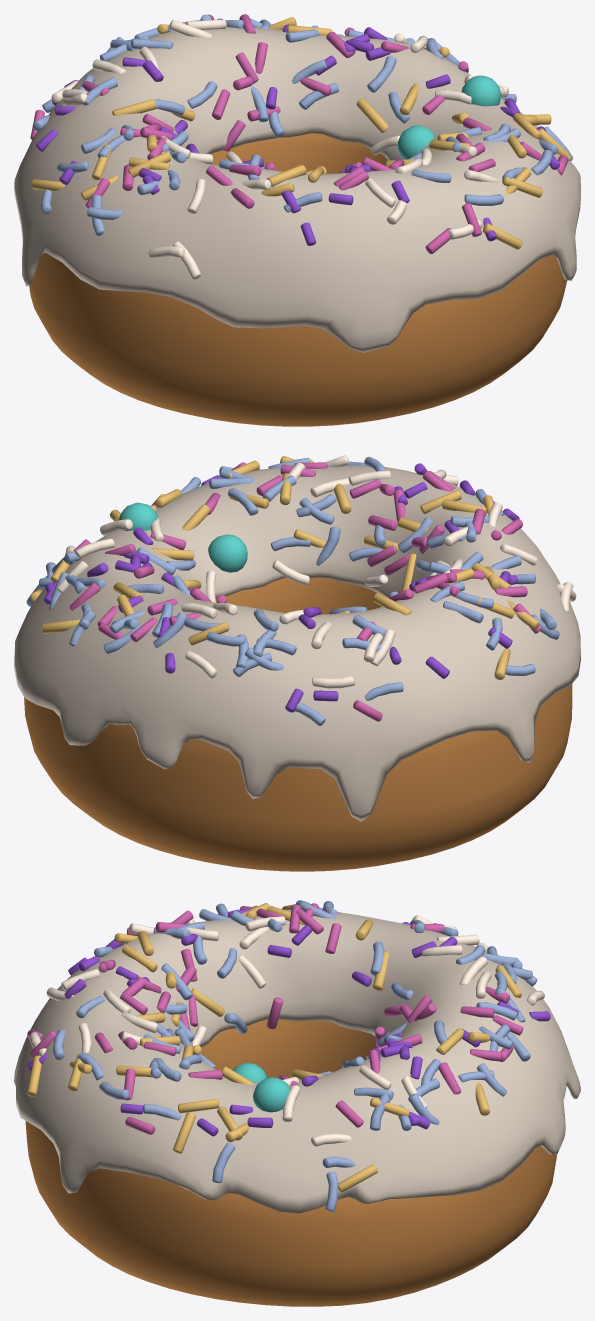
Rendered from SM_donut_white.fbx.
3 views of the same model, one above another, from view 1: azimuth 30°, elevation 25°; view 2: azimuth 150°, elevation 25°; view 3: azimuth 270°, elevation 25° (orthographic). The views are drawn at different scales.
Visible parts, largest first — view 1: SM_donut_white; view 2: SM_donut_white; view 3: SM_donut_white.
Part boxes in pixels (bbox=[...]): SM_donut_white: bbox=[14, 14, 580, 426]; SM_donut_white: bbox=[14, 455, 580, 871]; SM_donut_white: bbox=[14, 900, 580, 1306].
Size of the model in its own units: 17.32 by 8.4 by 17.2.
Materials: 1 (1 with a texture image).
